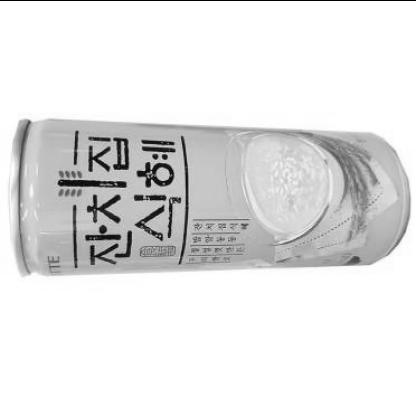alumunium_can: (6, 111, 414, 285)
